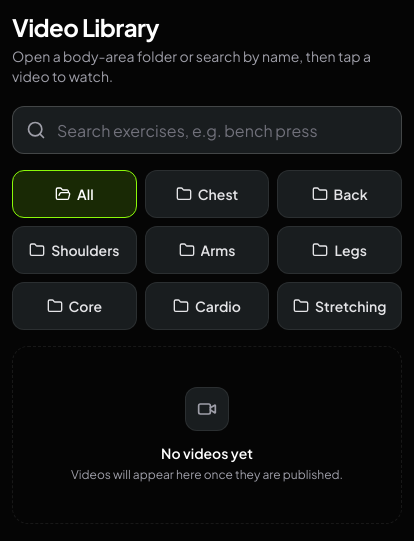
it: Video Library: body-area folders › an empty folder says so, and does not use the empty-library message
This screenshot has width=414, height=541.
Click the button "Cardio".
click(207, 306)  # box [145,282,269,330]
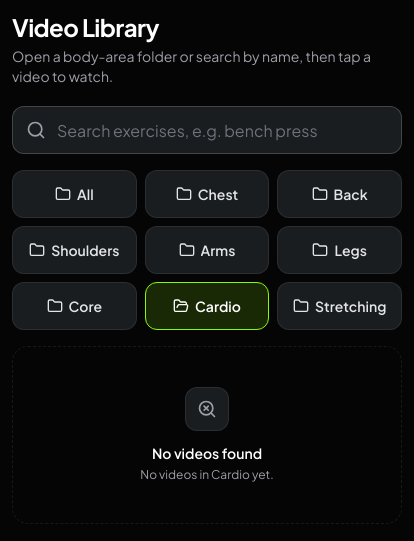
Expected: the text "No videos in Cardio yet." is shown, [140,467,274,483]
Expected: the text "No videos yet" is gone
